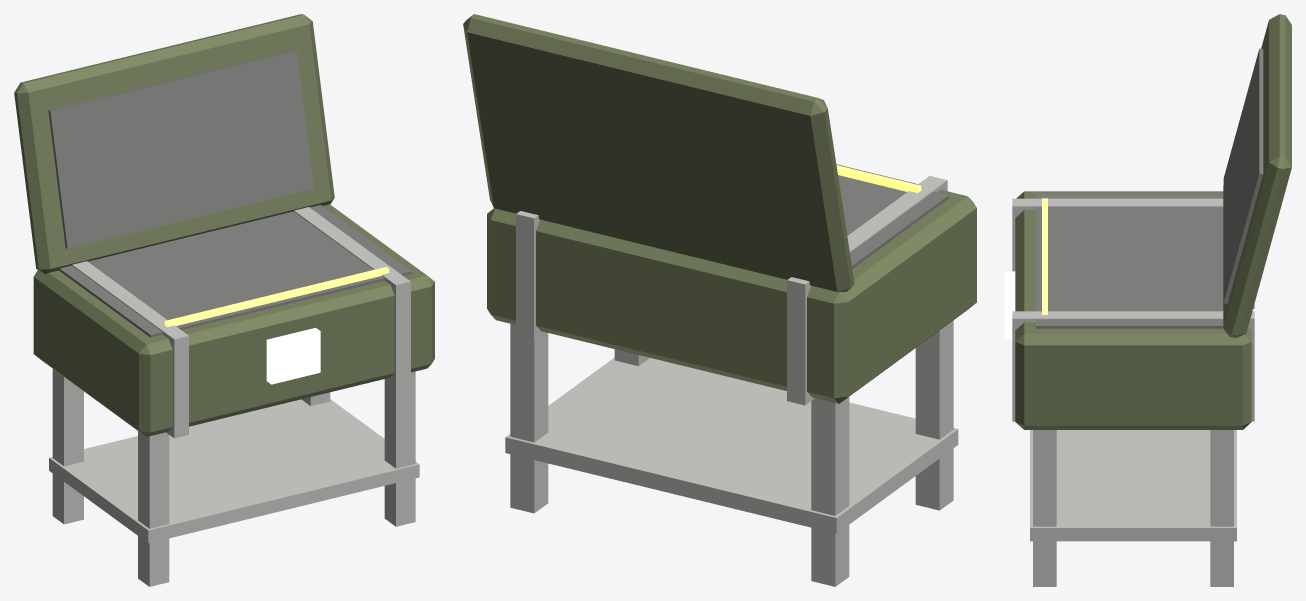
3 renders of one model, left to right at view 1: azimuth 30°, elevation 25°; view 2: azimuth 150°, elevation 25°; view 3: azimuth 270°, elevation 25°, orthographic. The views are drawn at different scales.
Parts seen in each view (by area): view 1: lt_box_bk; view 2: lt_box_bk; view 3: lt_box_bk.
Part boxes in pixels (x1,y1,x2,y2): lt_box_bk: (14, 14, 434, 586); lt_box_bk: (463, 14, 976, 586); lt_box_bk: (1005, 14, 1291, 586).
Bounding box in the file's own units: 1.2 × 1.62 × 0.9712.
